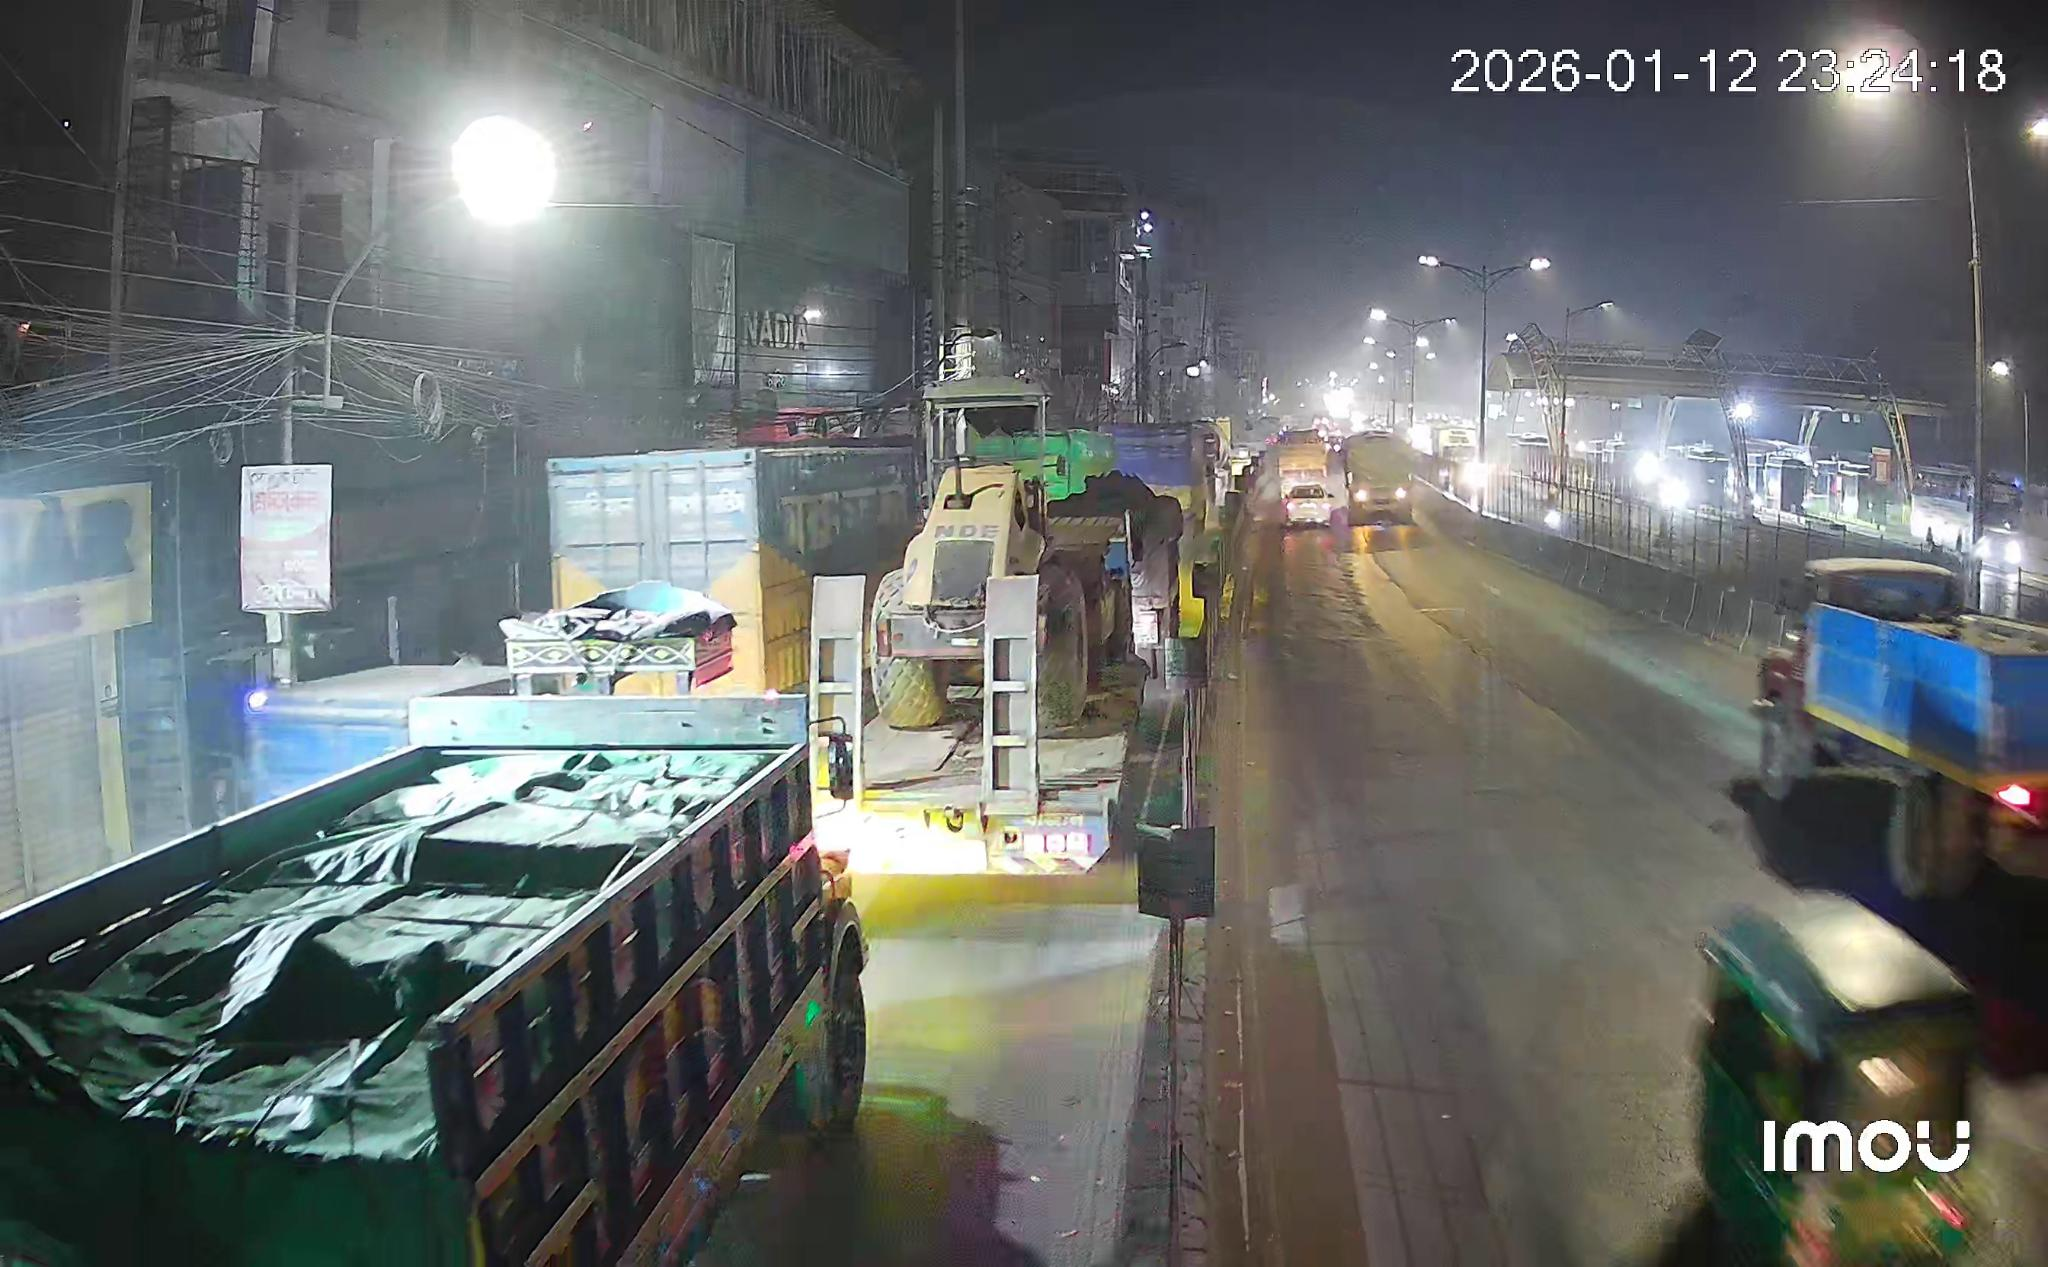CNG-Tempo: (1695, 895, 1987, 1267)
Truck: (0, 582, 867, 1267), (1751, 559, 2047, 897), (546, 442, 919, 693), (1339, 435, 1418, 525)
